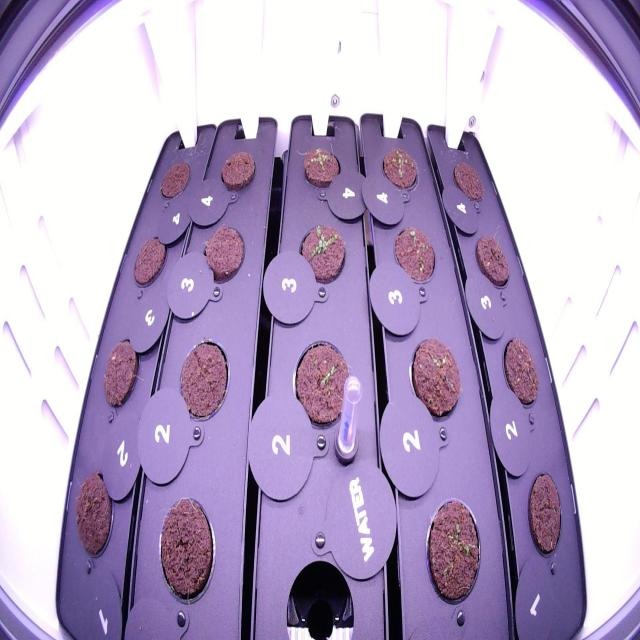germination: (292, 218, 350, 294), (386, 219, 440, 295), (295, 140, 345, 201), (377, 141, 422, 201)
pod: (416, 491, 493, 617), (284, 331, 359, 443), (154, 490, 220, 610), (170, 328, 233, 436), (402, 333, 466, 434), (71, 464, 118, 570), (521, 463, 567, 568), (196, 216, 251, 294), (495, 331, 545, 414), (98, 331, 140, 418), (469, 226, 514, 297), (129, 225, 169, 295), (446, 154, 489, 212), (216, 143, 259, 198), (156, 152, 194, 208)
